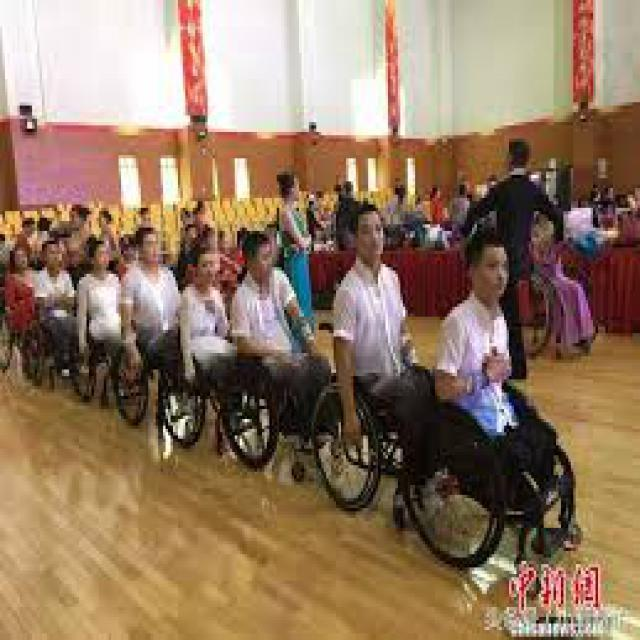wheelchairs: (400, 333, 581, 571), (304, 307, 442, 508), (220, 300, 336, 465), (161, 307, 232, 452), (111, 297, 171, 429)
